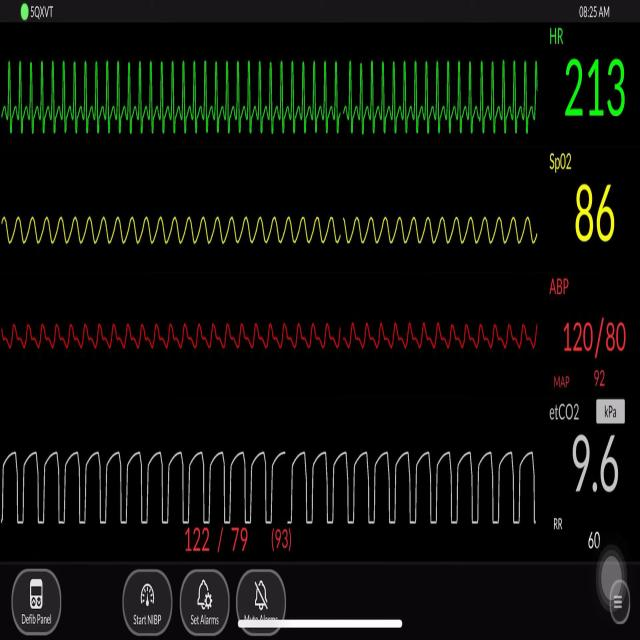danger: (7, 40, 543, 156)
